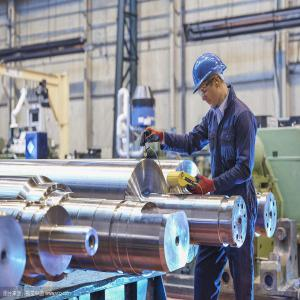blue: (193, 53, 227, 111)
